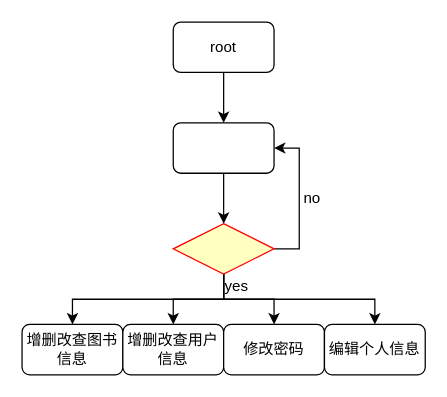
Some shapes in this 447 by 397 pixel diagram are drawn without their labels. Here are the shapes that lost their labels. From the top down, the centre of each, then its label:
the point at 223,147: 登录
the point at 223,248: 成功?
